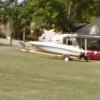Boat: (26, 31, 98, 64)
